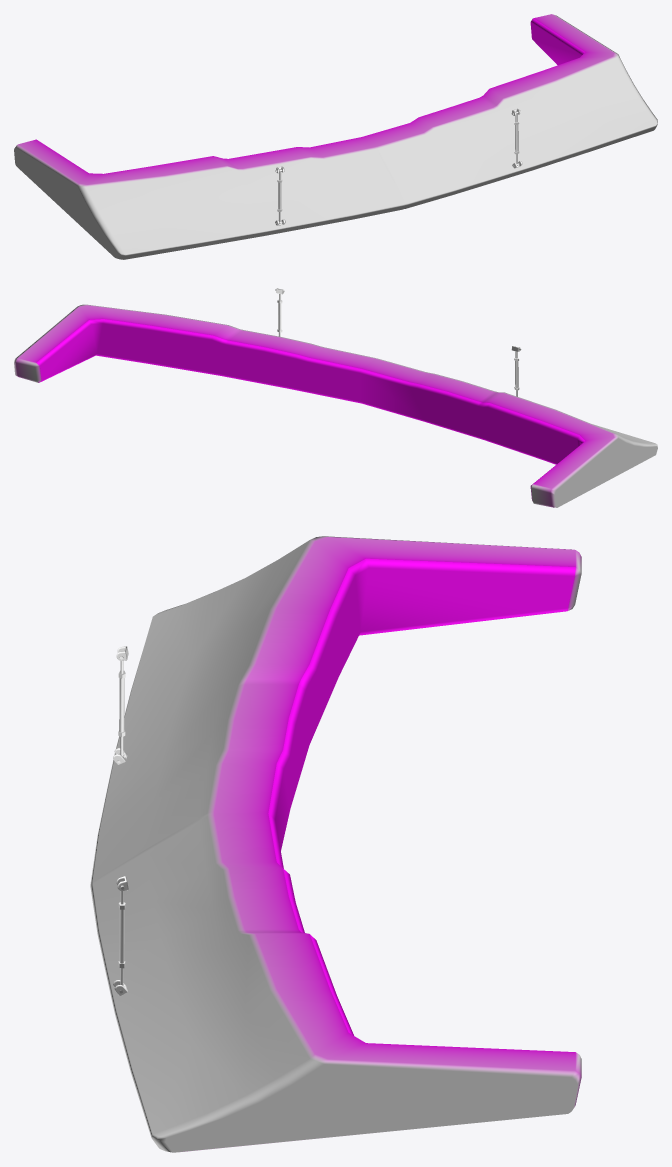
File: Car_Buick_GrandNational_1987_Splitter_SetB.fbx
3 views of the same model, one above another, from view 1: azimuth 30°, elevation 25°; view 2: azimuth 150°, elevation 25°; view 3: azimuth 270°, elevation 25° (orthographic). The views are drawn at different scales.
Parts seen in each view (by area): view 1: Splitter 6; view 2: Splitter 6; view 3: Splitter 6.
Boxes of the visible parts, left/top/right/bottom form: Splitter 6: left=14, top=14, right=657, bottom=259; Splitter 6: left=14, top=288, right=657, bottom=507; Splitter 6: left=90, top=536, right=581, bottom=1152.
Size of the model in its own units: 1.64 by 0.1953 by 0.6442.
